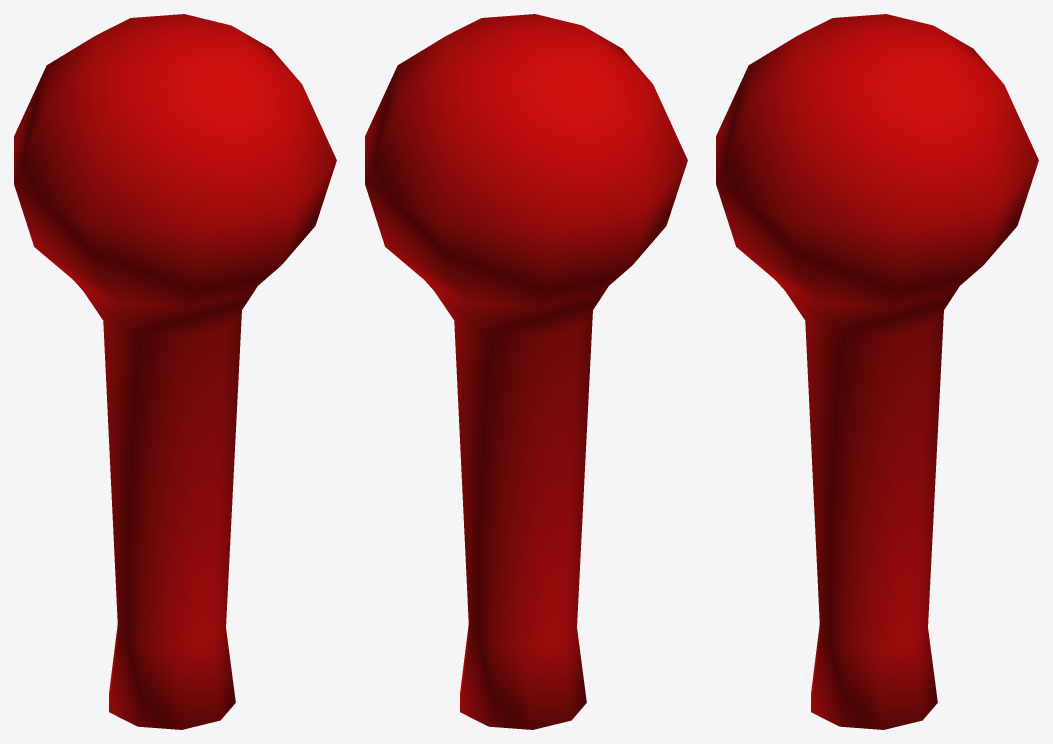
Rendered from joystic.obj.
3 renders of one model, left to right at view 1: azimuth 30°, elevation 25°; view 2: azimuth 150°, elevation 25°; view 3: azimuth 270°, elevation 25°, orthographic.
Visible parts, largest first — view 1: Sphere.006_export; view 2: Sphere.006_export; view 3: Sphere.006_export.
Part boxes in pixels (box(x1,y1,x2,y2)): Sphere.006_export: box(14, 14, 336, 729); Sphere.006_export: box(365, 14, 687, 729); Sphere.006_export: box(716, 14, 1038, 729).
Bounding box in the file's own units: 0.1391 × 0.3246 × 0.1369.
